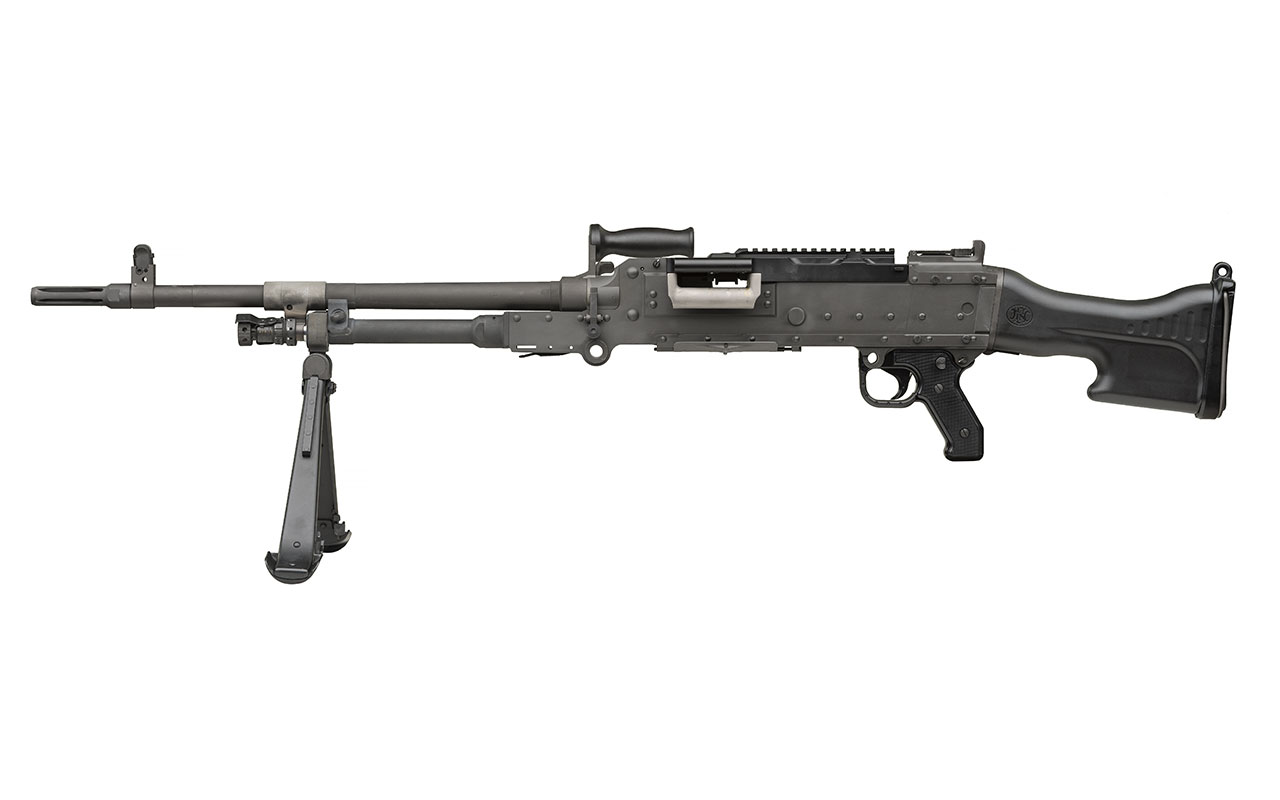Arma Real: (23, 226, 1225, 586)
